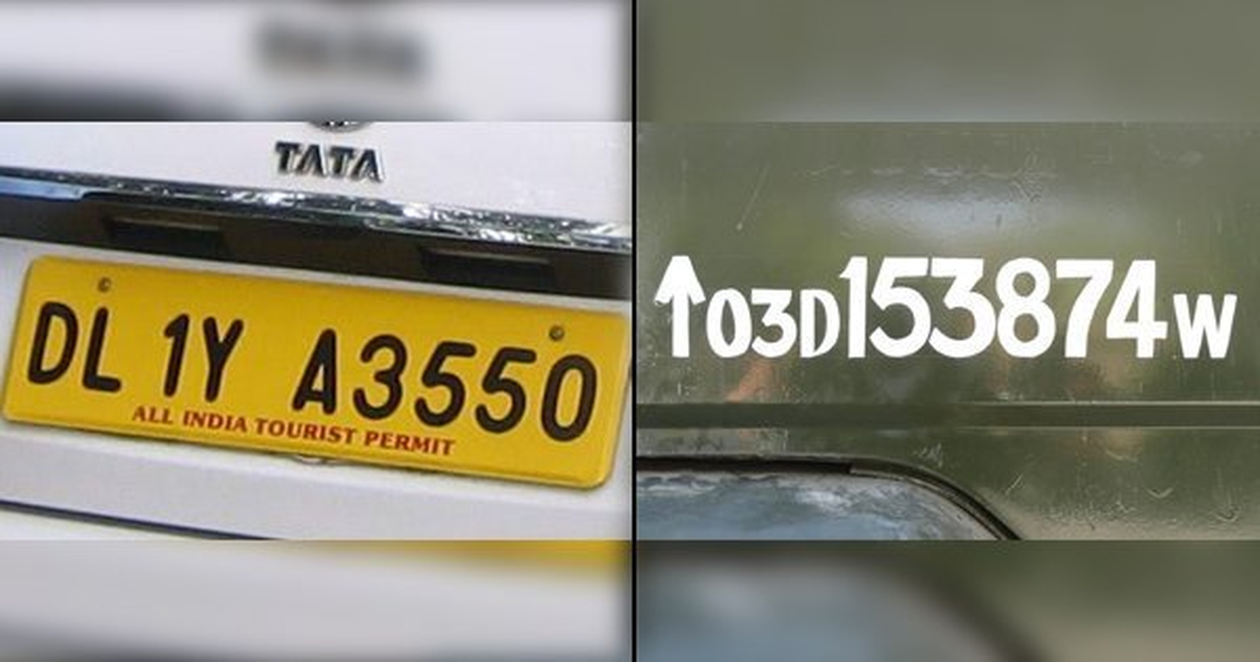number_plate: (3, 252, 631, 493)
